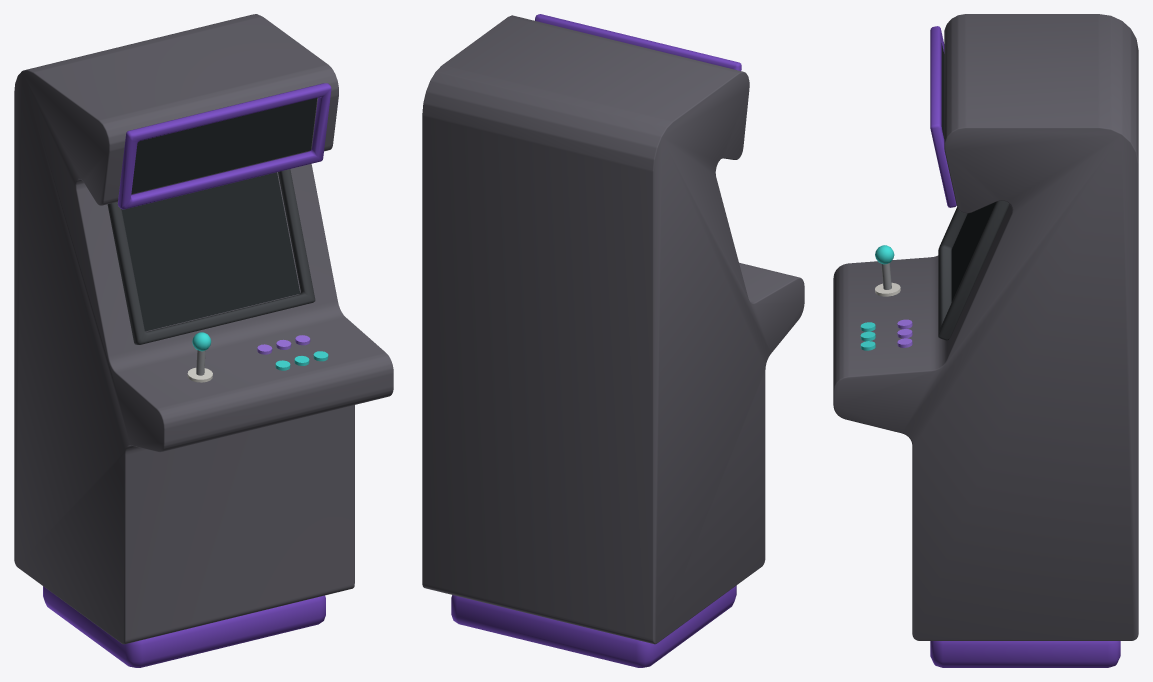
Rendered from arcade.glb.
3 renders of one model, left to right at view 1: azimuth 30°, elevation 25°; view 2: azimuth 150°, elevation 25°; view 3: azimuth 270°, elevation 25°, orthographic.
Visible parts, largest first — view 1: ARC_Gris_Froid, ARC_Ecran.001, ARC_Neon_Violet, ARC_Fronton.001, ARC_Anthracite, ARC_Neon_Cyan; view 2: ARC_Gris_Froid, ARC_Neon_Violet; view 3: ARC_Gris_Froid, ARC_Neon_Violet, ARC_Anthracite, ARC_Ecran.001, ARC_Neon_Cyan.
Part boxes in pixels (x1=…): ARC_Gris_Froid: x1=14, y1=14, x2=393, y2=644; ARC_Ecran.001: x1=121, y1=172, x2=300, y2=331; ARC_Neon_Violet: x1=43, y1=83, x2=331, y2=667; ARC_Fronton.001: x1=131, y1=98, x2=317, y2=193; ARC_Anthracite: x1=107, y1=169, x2=315, y2=344; ARC_Neon_Cyan: x1=192, y1=332, x2=328, y2=370; ARC_Gris_Froid: x1=422, y1=15, x2=804, y2=644; ARC_Neon_Violet: x1=451, y1=14, x2=741, y2=667; ARC_Gris_Froid: x1=833, y1=14, x2=1138, y2=640; ARC_Neon_Violet: x1=930, y1=26, x2=1120, y2=667; ARC_Anthracite: x1=938, y1=200, x2=1009, y2=340; ARC_Ecran.001: x1=951, y1=202, x2=996, y2=301; ARC_Neon_Cyan: x1=860, y1=245, x2=894, y2=350.
Size of the model in its own units: 0.75 by 1.7 by 0.85.
